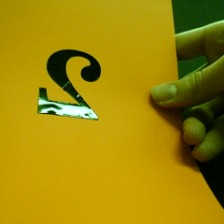orange2: (30, 47, 106, 124)
